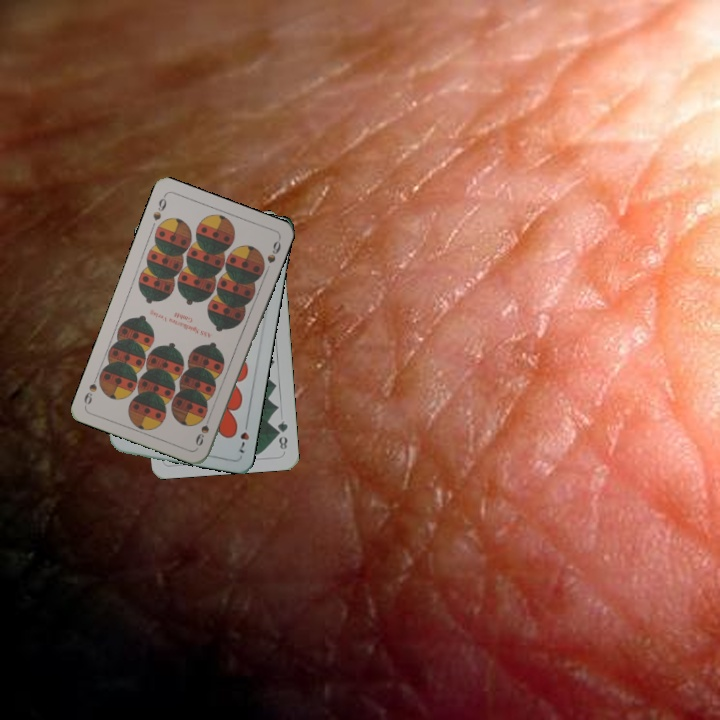G8: (273, 417, 290, 452)
H7: (235, 417, 251, 456)
S9: (191, 410, 214, 449), (149, 192, 169, 223)
